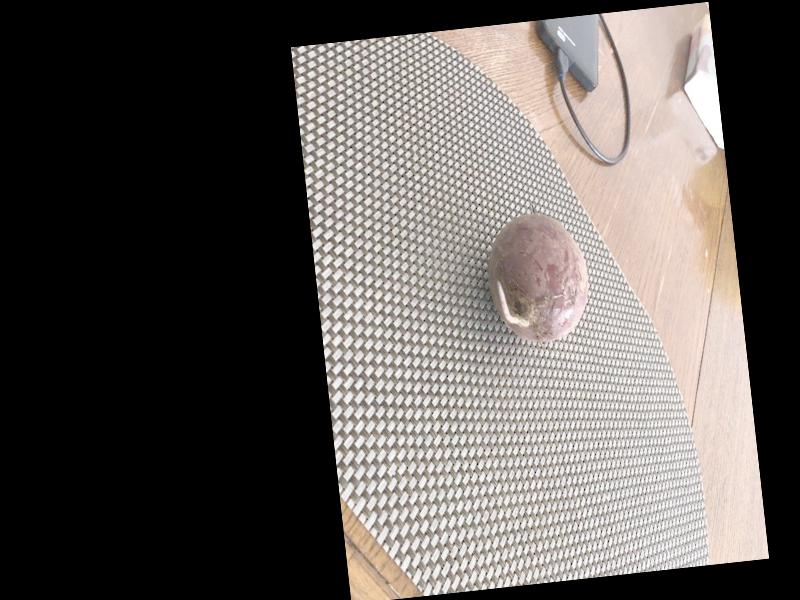Beet: (482, 208, 593, 346)
